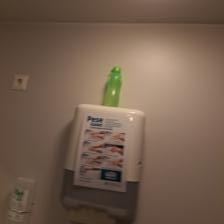bottle: (95, 63, 124, 109)
